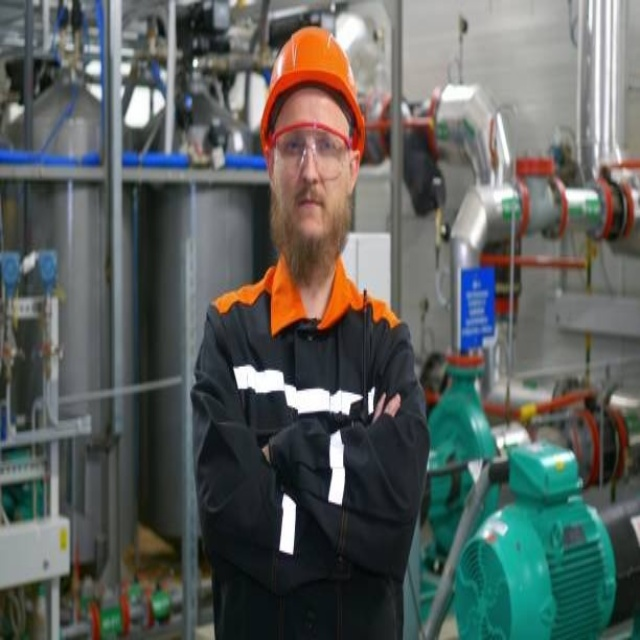Gafas: (269, 126, 355, 183)
Sin_mascara: (292, 186, 329, 233)
